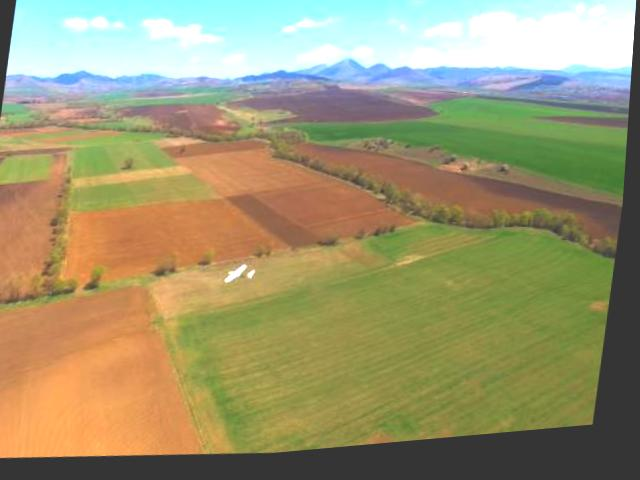uav: (222, 256, 267, 295)
